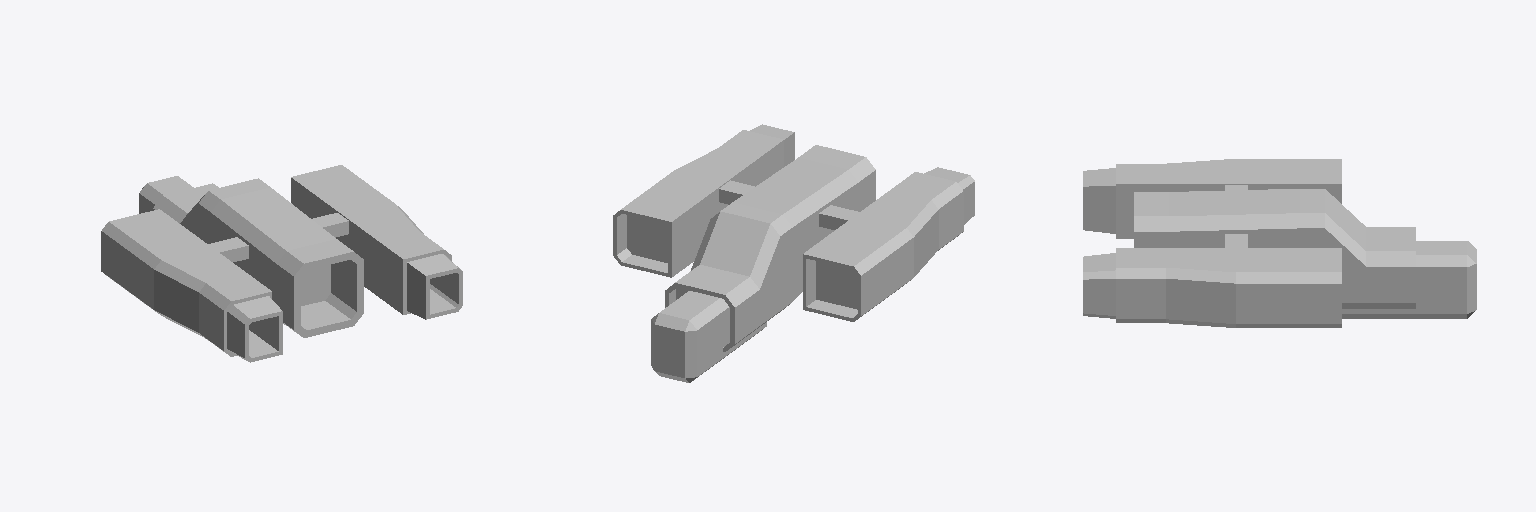
File: enemy_type_01.obj
3 renders of one model, left to right at view 1: azimuth 30°, elevation 25°; view 2: azimuth 150°, elevation 25°; view 3: azimuth 270°, elevation 25°, orthographic.
Visible parts, largest first — view 1: Cube.002_Cube.000; view 2: Cube.002_Cube.000; view 3: Cube.002_Cube.000.
Part boxes in pixels (x1,y1,x2,y2): Cube.002_Cube.000: (101, 165, 462, 362); Cube.002_Cube.000: (613, 124, 974, 382); Cube.002_Cube.000: (1083, 159, 1476, 327).
Size of the model in its own units: 5.42 by 2.3 by 7.45.